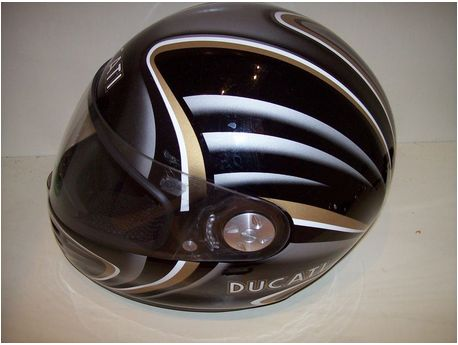helmet: (50, 19, 396, 295)
